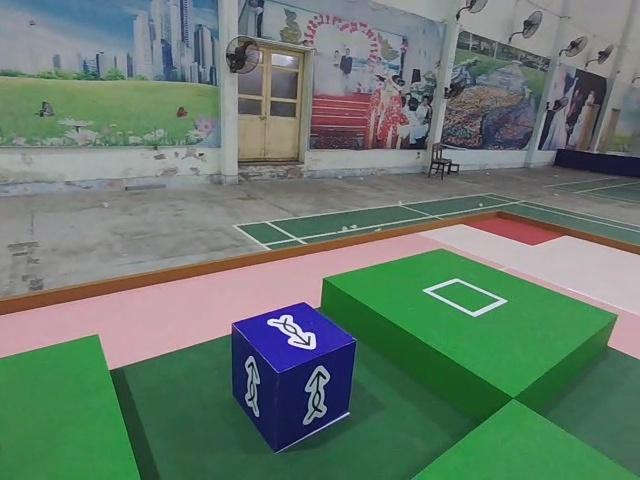R2 Real Blue: (231, 301, 356, 454)
